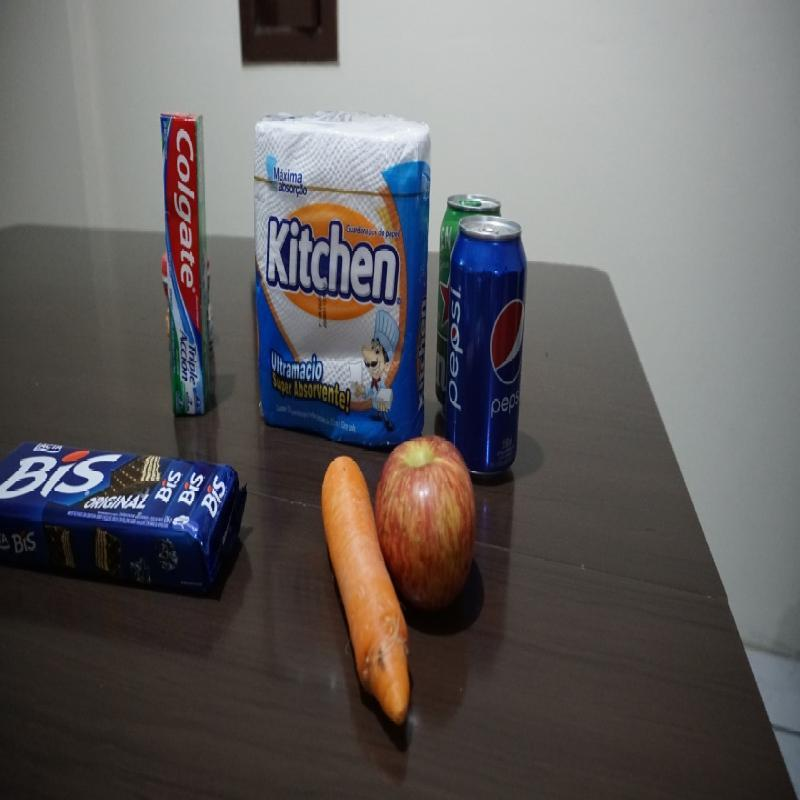Apple: (399, 440, 478, 620)
Carrot: (320, 449, 398, 714)
Napkin: (253, 112, 419, 436)
Soda can: (453, 222, 528, 458)
Toothpaste: (162, 108, 209, 418)
